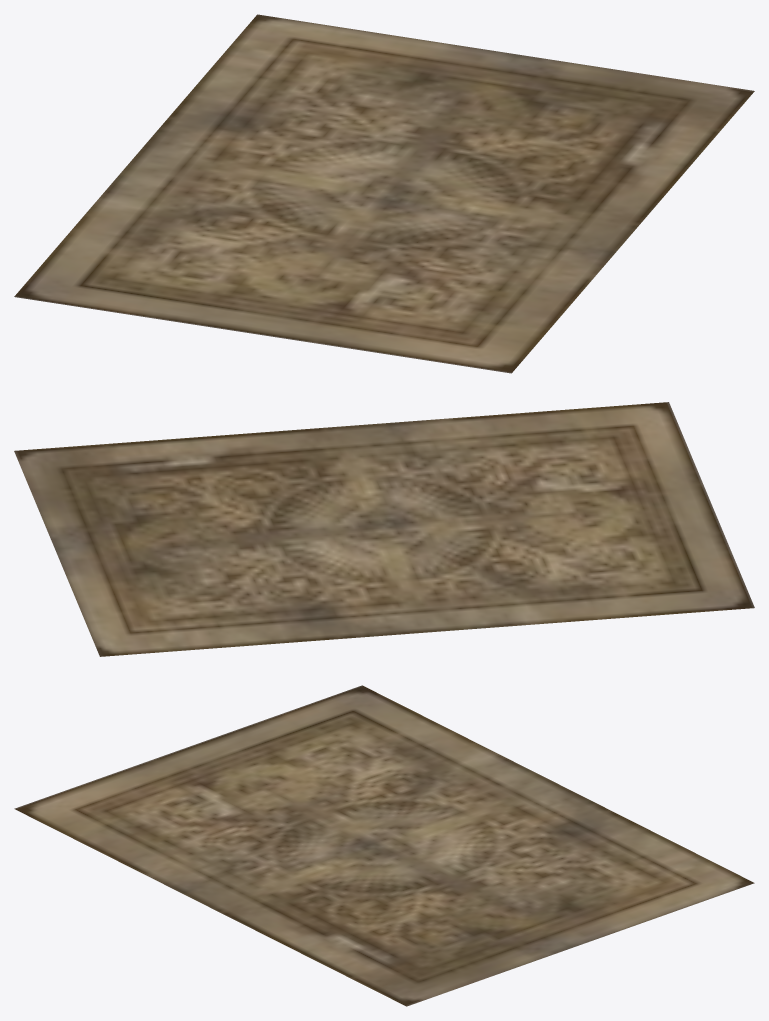
Rendered from cards_1_high.fbx.
3 views of the same model, one above another, from view 1: azimuth 30°, elevation 25°; view 2: azimuth 150°, elevation 25°; view 3: azimuth 270°, elevation 25° (orthographic). The views are drawn at different scales.
Visible parts, largest first — view 1: cards_1_group; view 2: cards_1_group; view 3: cards_1_group.
Boxes of the visible parts, x1,y1,x2,y2 form: cards_1_group: (14,14,754,373); cards_1_group: (14,402,754,656); cards_1_group: (14,685,754,1006).
Bounding box in the file's own units: 45.47 × 7.22e-06 × 44.32.
Materials: 1 (1 with a texture image).
